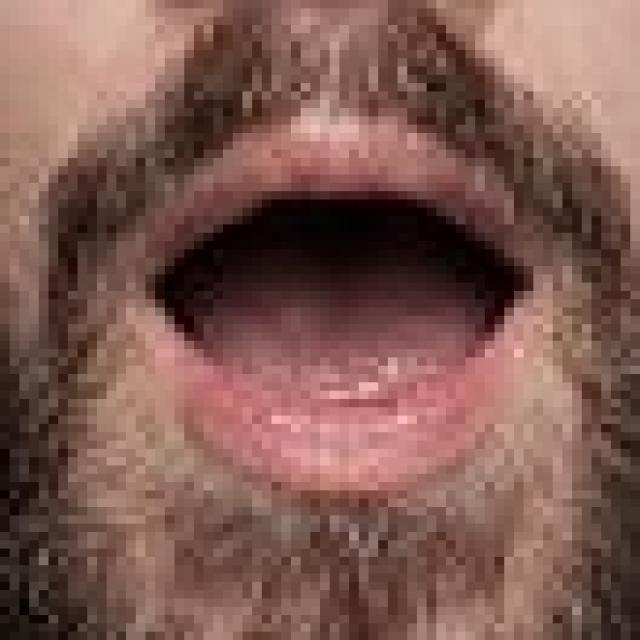open-mouth: (0, 0, 630, 631), (126, 116, 543, 499)
